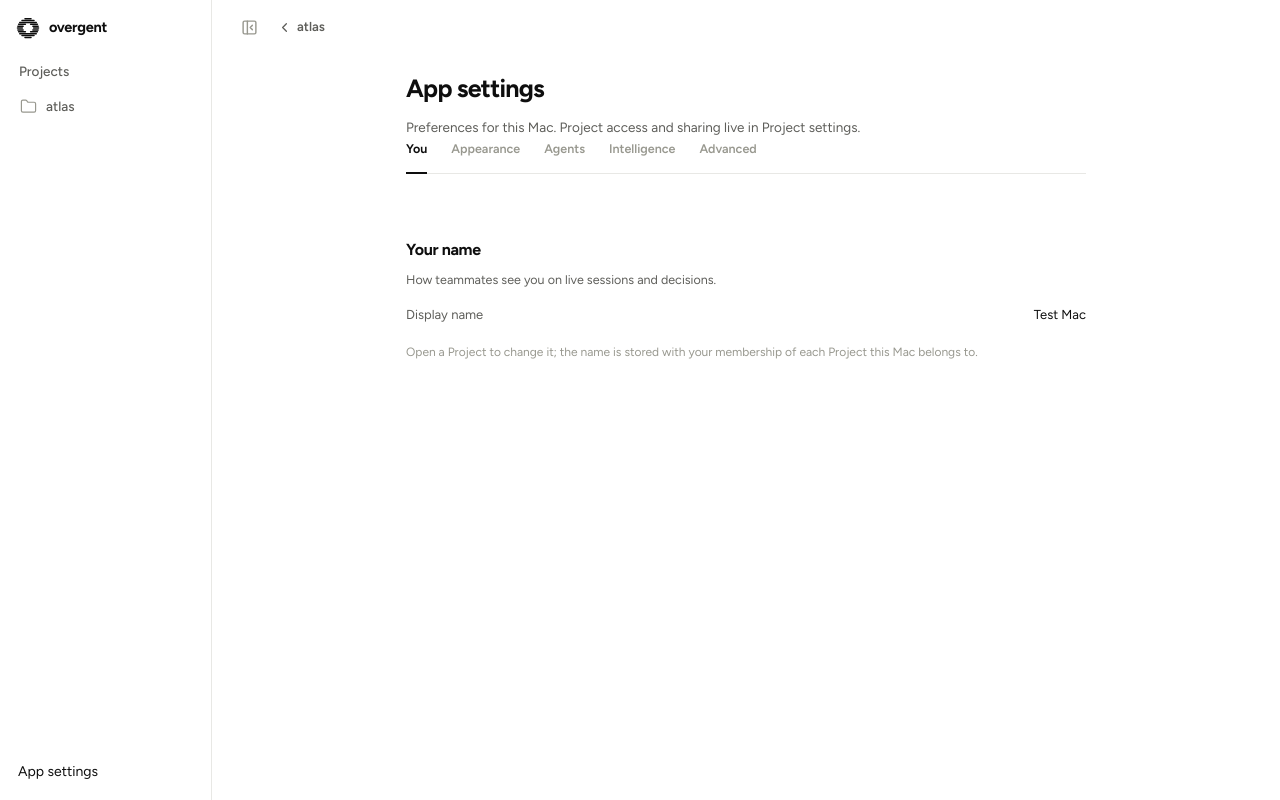
Test: local-first entry › shows integration trust problems in settings without claiming readiness
Click the button "Agents": click(565, 156) [544,138,585,173]
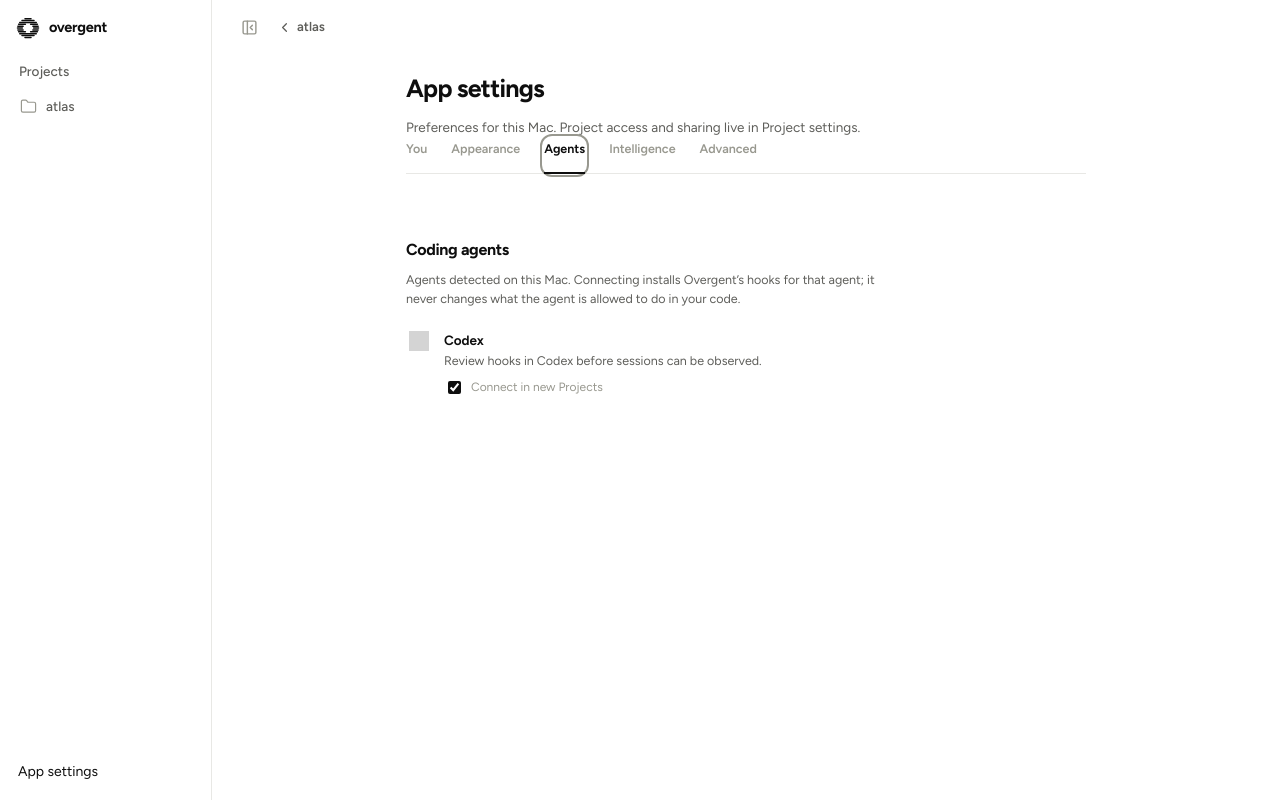
Now the text "Review hooks in Codex before sessions can be observed." is shown, box [444,353,762,368]
